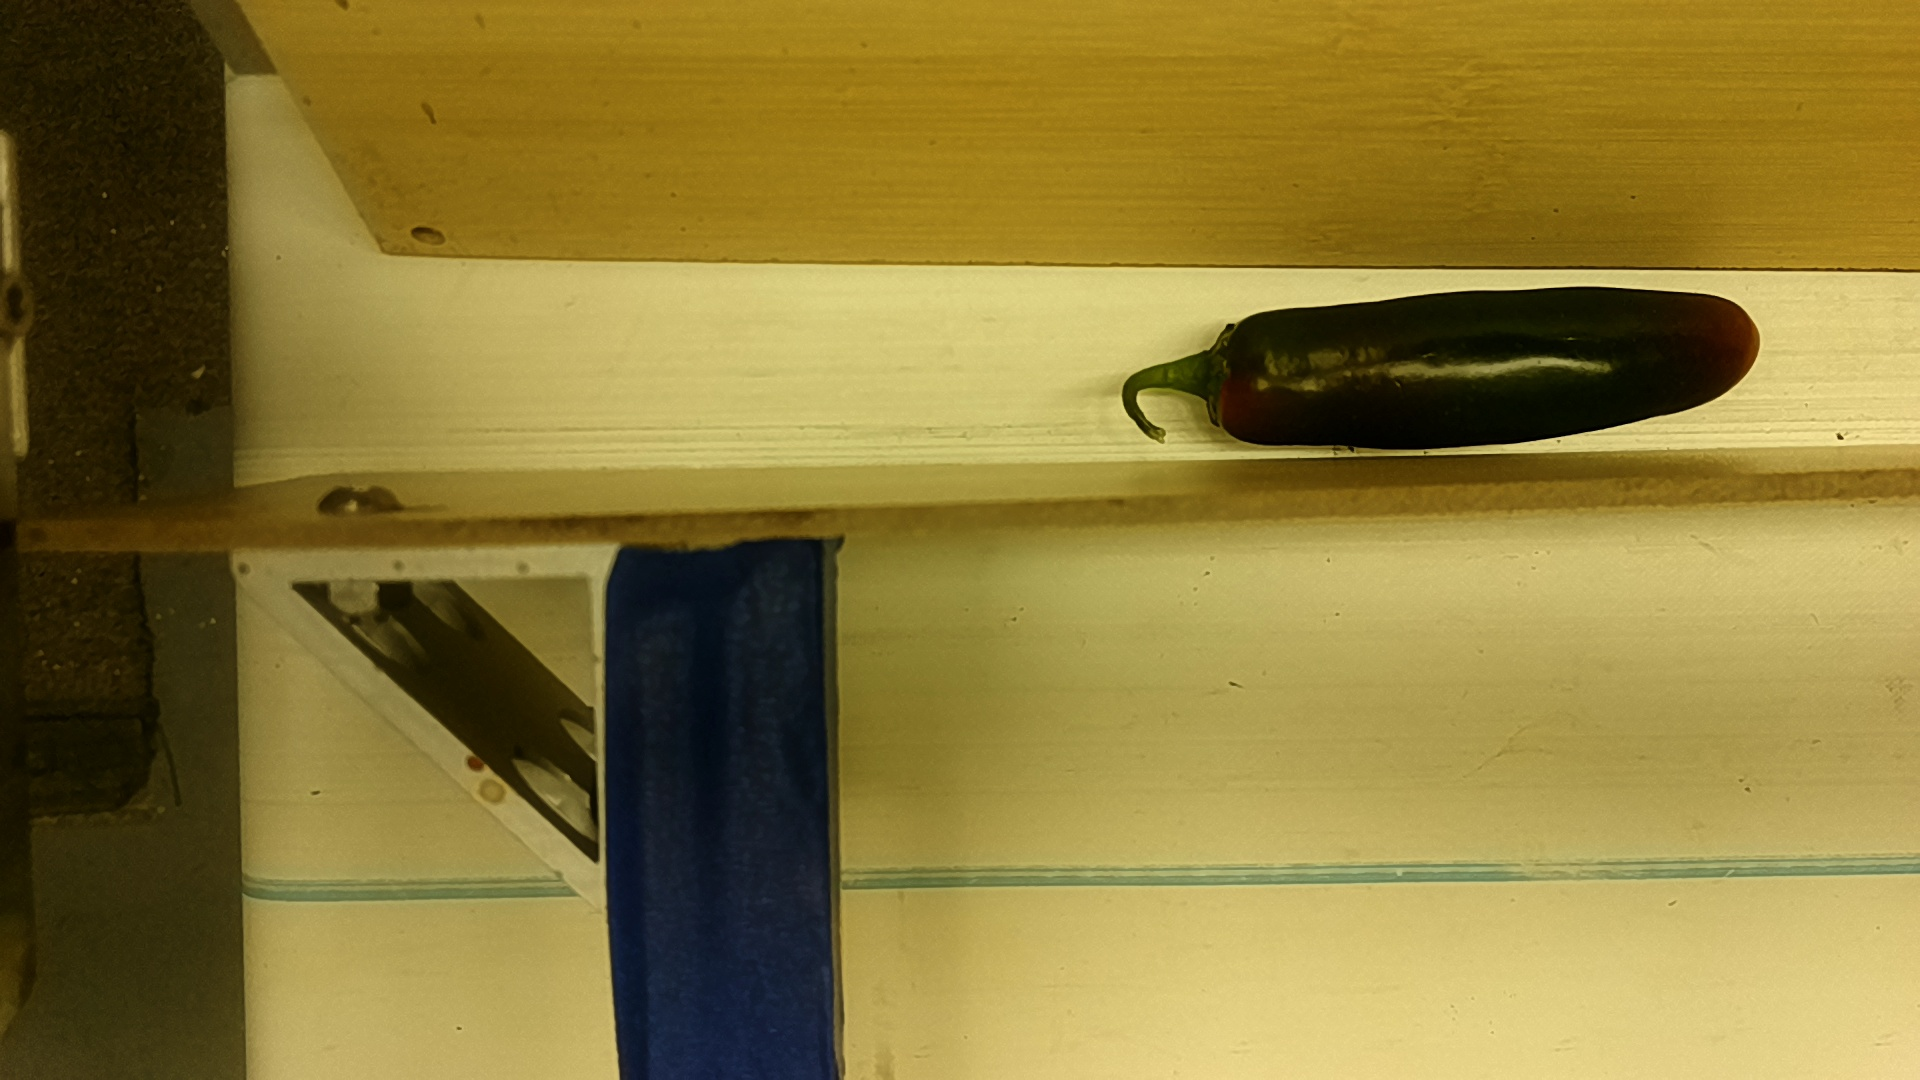Cut Point: (1189, 310, 1271, 450)
